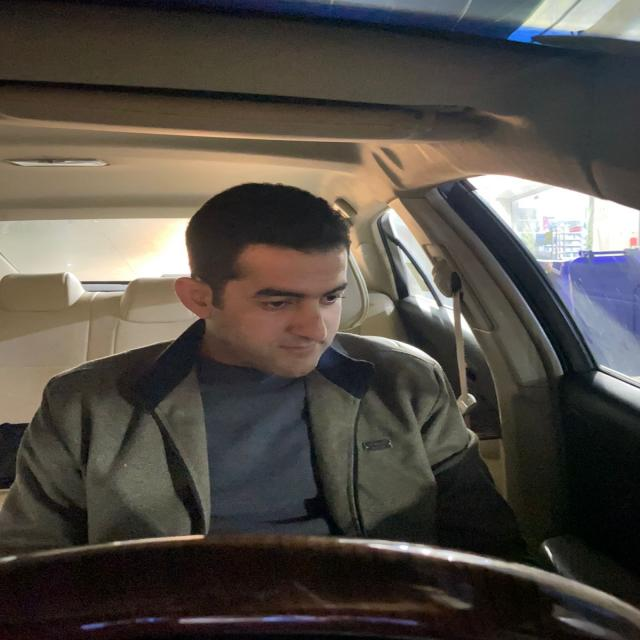person: (182, 190, 352, 370)
